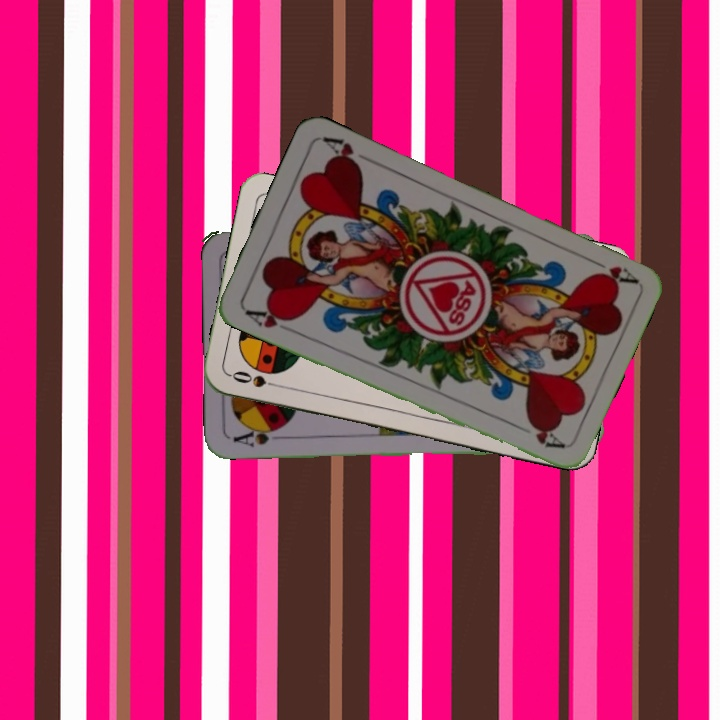HA: (583, 253, 639, 289), (241, 303, 298, 336)
SA: (229, 423, 288, 449)
SO: (227, 366, 285, 391)
